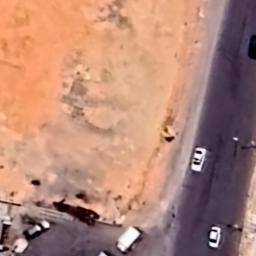SUV: (26, 220, 51, 236)
others: (116, 225, 142, 254)
sedan: (190, 146, 208, 172), (208, 225, 222, 248)
